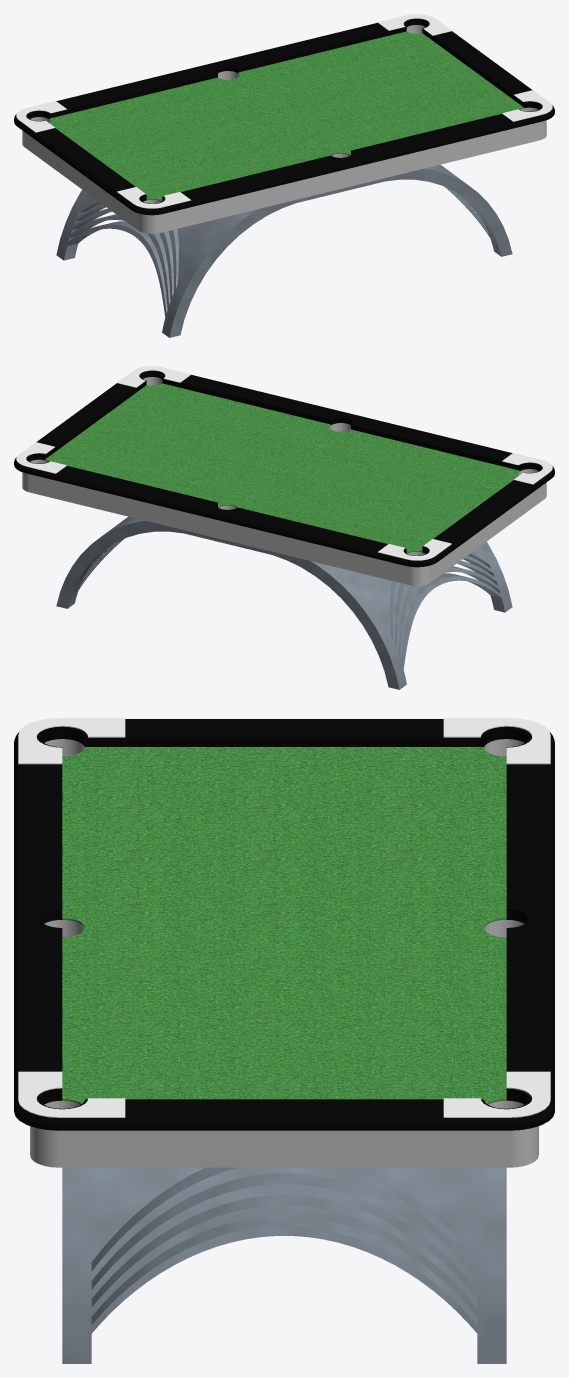
The model's file is pool-table.glb.
3 views of the same model, one above another, from view 1: azimuth 30°, elevation 25°; view 2: azimuth 150°, elevation 25°; view 3: azimuth 270°, elevation 25° (orthographic). The views are drawn at different scales.
Parts seen in each view (by area): view 1: Joined Solid Geometry [4734]; view 2: Joined Solid Geometry [4734]; view 3: Joined Solid Geometry [4734].
Part boxes in pixels (x1,y1,x2,y2): Joined Solid Geometry [4734]: (14,14,554,337); Joined Solid Geometry [4734]: (14,366,554,689); Joined Solid Geometry [4734]: (14,718,554,1363).
Size of the model in its own units: 2.95 by 0.9631 by 1.68.
5 materials, 3 textured.
